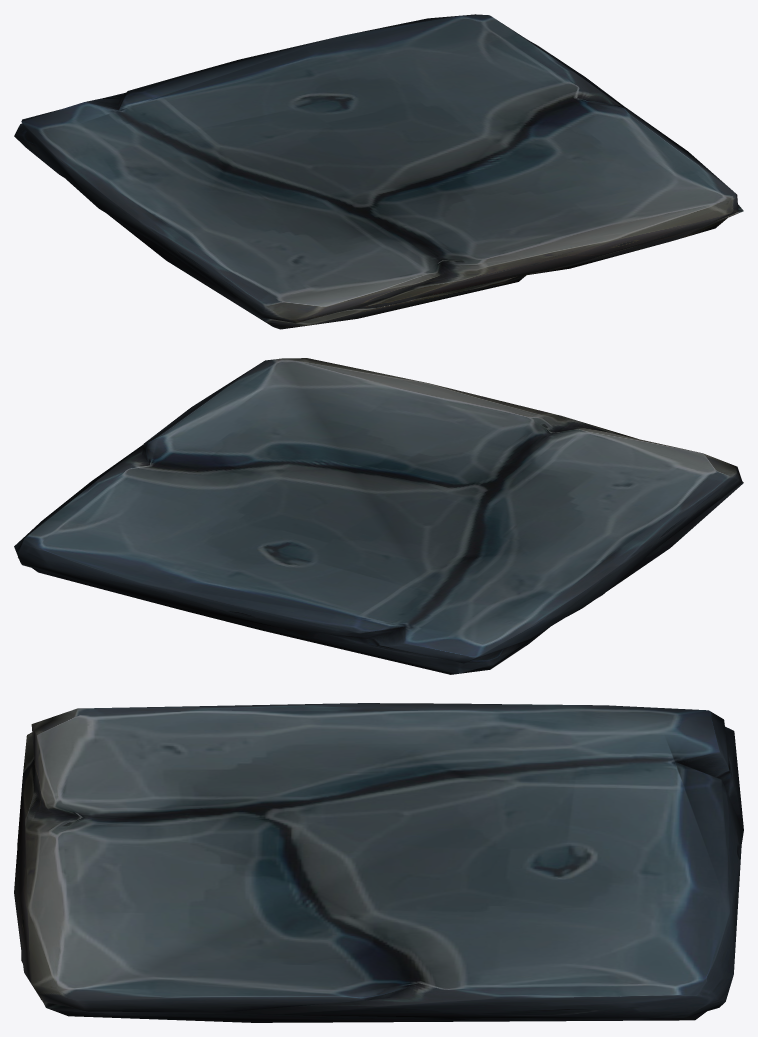
Rendered from Broken-Stone.fbx.
3 views of the same model, one above another, from view 1: azimuth 30°, elevation 25°; view 2: azimuth 150°, elevation 25°; view 3: azimuth 270°, elevation 25° (orthographic). The views are drawn at different scales.
Parts seen in each view (by area): view 1: Broken-Stone; view 2: Broken-Stone; view 3: Broken-Stone.
Part boxes in pixels (bbox=[...]): Broken-Stone: bbox=[14, 14, 743, 329]; Broken-Stone: bbox=[14, 358, 743, 674]; Broken-Stone: bbox=[14, 703, 743, 1022].
Bounding box in the file's own units: 101 × 4.1 × 100.
Materials: 1 (1 with a texture image).
